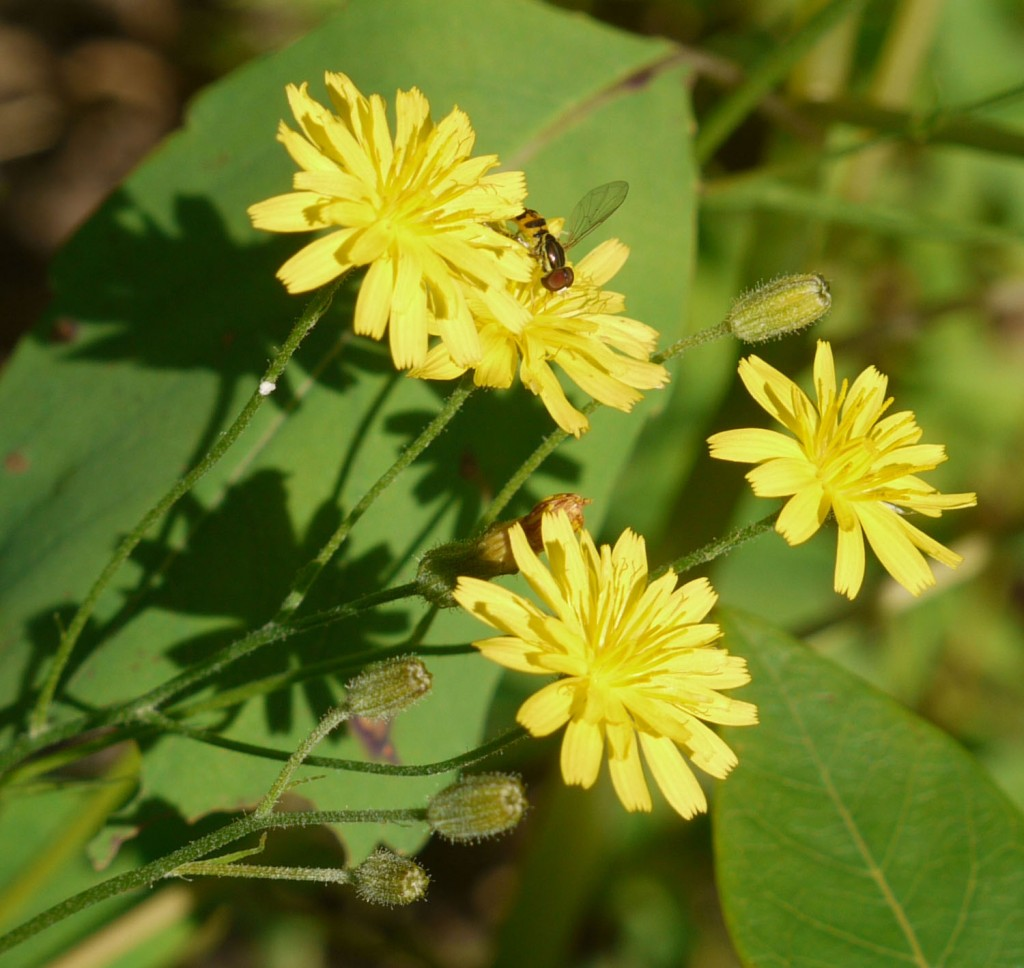dandelion: (473, 507, 758, 821), (721, 352, 990, 584), (273, 81, 498, 346)
